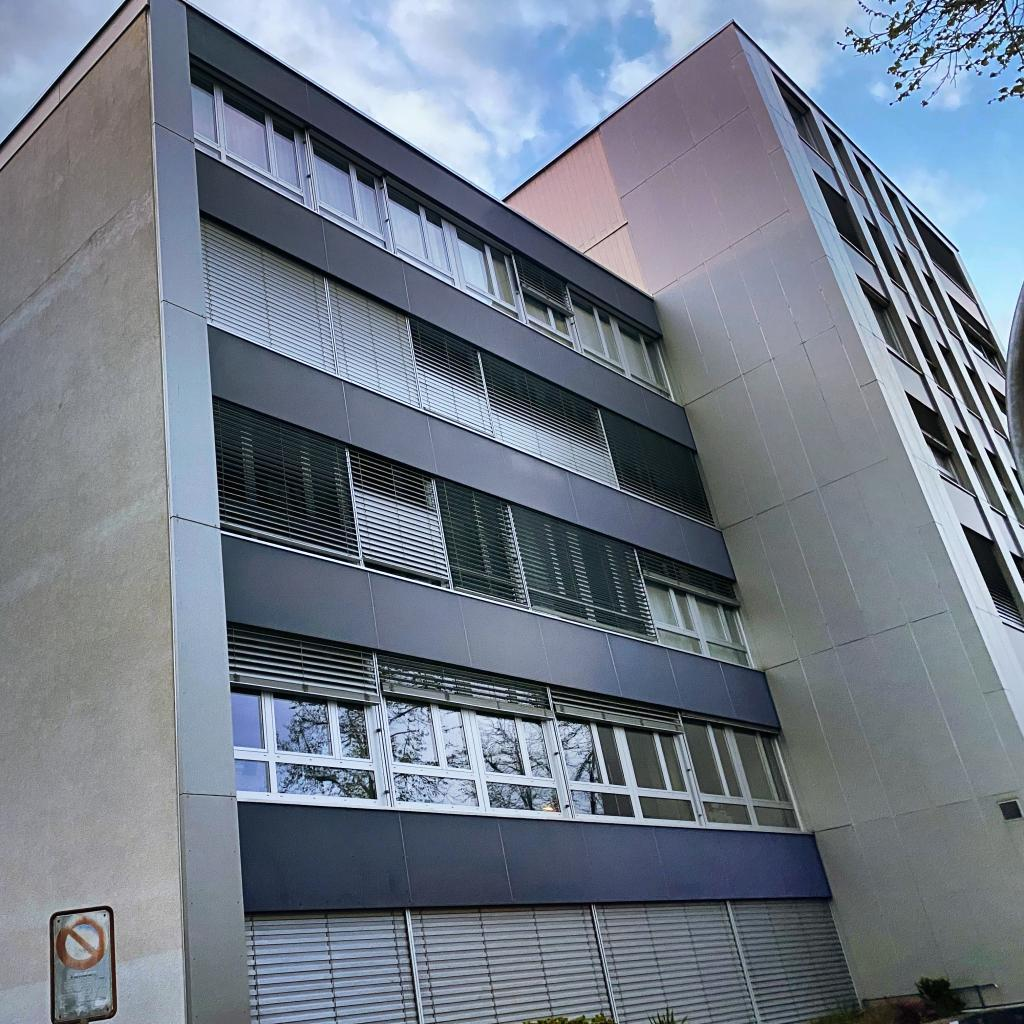facade: (0, 0, 1024, 1024)
fence: (921, 1003, 1024, 1024)
traffic-infrastructure: (48, 903, 119, 1024)
vegetation: (834, 0, 1024, 109), (795, 974, 968, 1024), (1006, 279, 1024, 495), (522, 1011, 618, 1024), (646, 1004, 688, 1024)
window: (190, 57, 677, 403), (200, 212, 717, 528), (213, 395, 755, 669), (227, 624, 805, 829), (245, 898, 863, 1024), (964, 529, 1024, 632), (907, 395, 965, 488), (816, 176, 866, 254), (865, 292, 910, 362), (781, 90, 821, 154)
